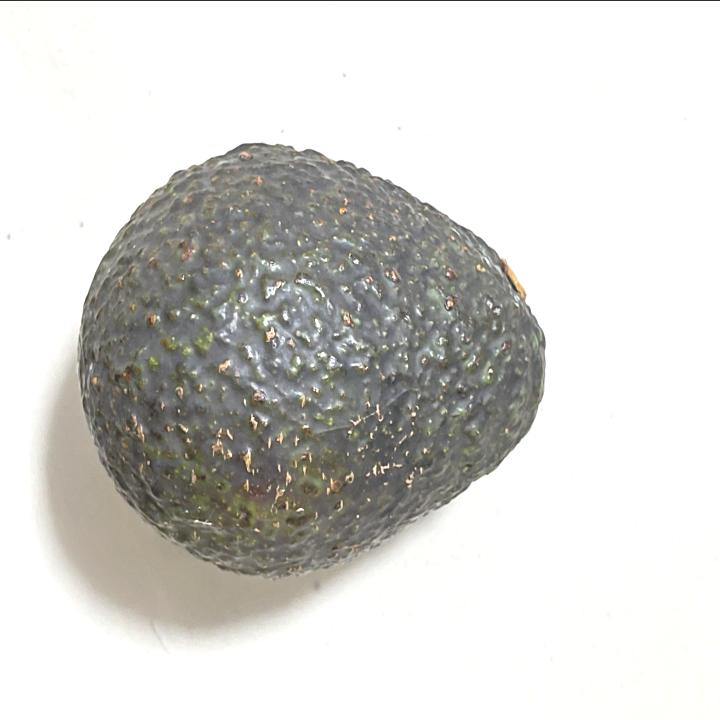Level1: (63, 120, 566, 584)
